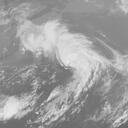cyclone: (55, 31, 102, 82)
